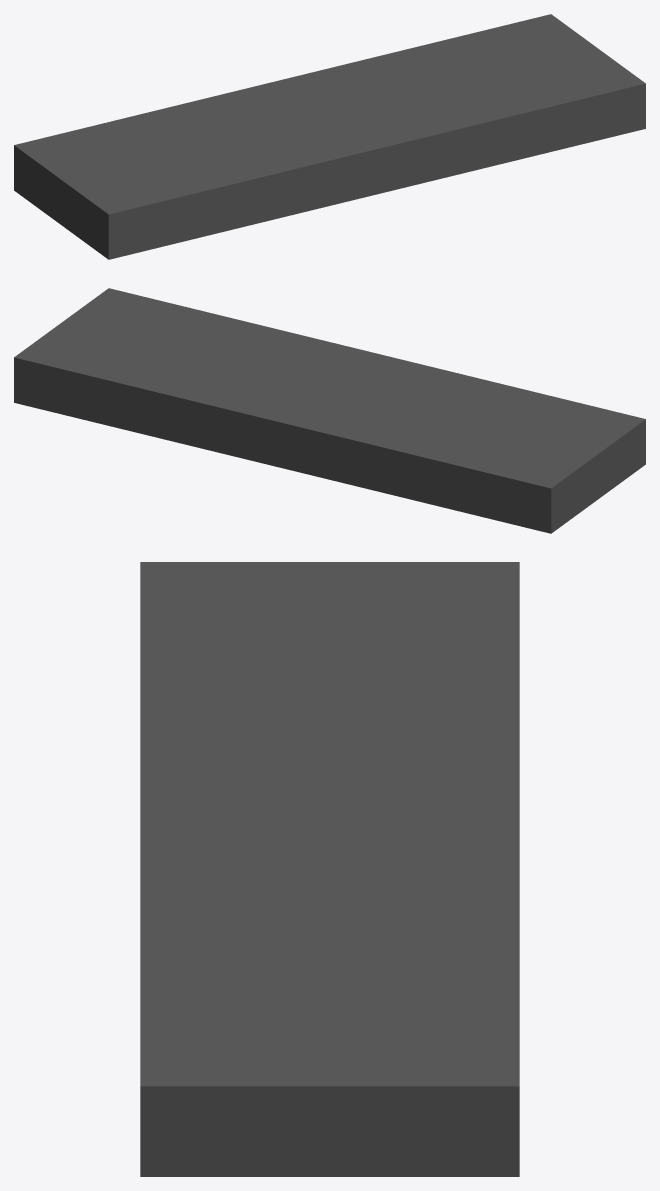
The model's file is Itr_Wardrobe4_Base_04.FBX.
The picture shows the model from 3 angles, top to bottom: view 1: azimuth 30°, elevation 25°; view 2: azimuth 150°, elevation 25°; view 3: azimuth 270°, elevation 25°; orthographic projection. The views are drawn at different scales.
Parts seen in each view (by area): view 1: Itr_Wardrobe4_Base_04; view 2: Itr_Wardrobe4_Base_04; view 3: Itr_Wardrobe4_Base_04.
Boxes of the visible parts, box(x1,y1,x2,y2) form: Itr_Wardrobe4_Base_04: box(14, 14, 645, 259); Itr_Wardrobe4_Base_04: box(14, 288, 645, 533); Itr_Wardrobe4_Base_04: box(140, 562, 519, 1176).
Bounding box in the file's own units: 63.07 × 5.09 × 19.28.
